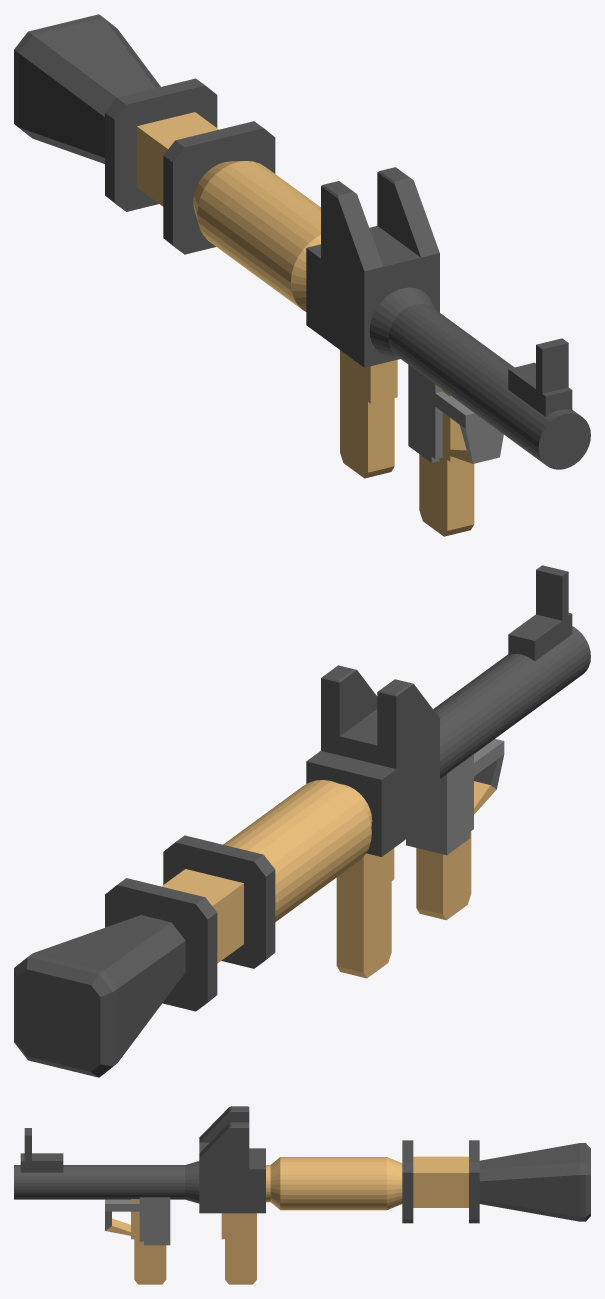
The model's file is RPG.fbx.
3 views of the same model, one above another, from view 1: azimuth 30°, elevation 25°; view 2: azimuth 150°, elevation 25°; view 3: azimuth 270°, elevation 25° (orthographic). The views are drawn at different scales.
Parts seen in each view (by area): view 1: Cube; view 2: Cube; view 3: Cube.
Part boxes in pixels (box(x1,y1,x2,y2)): Cube: box(14, 14, 590, 536); Cube: box(14, 565, 590, 1077); Cube: box(14, 1106, 590, 1284).
Bounding box in the file's own units: 26.98 × 72.28 × 231.
